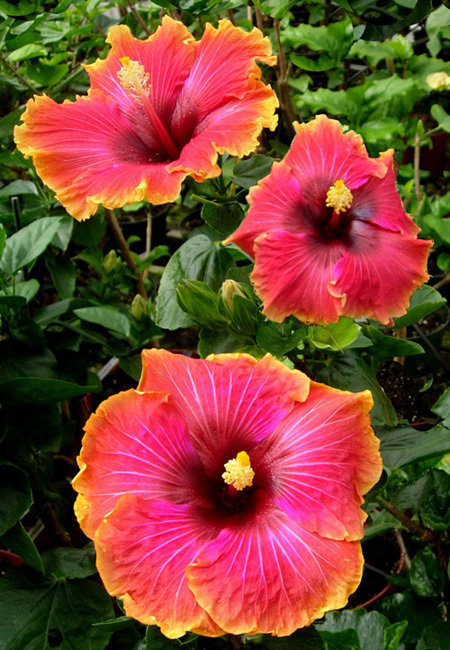Hibiscus-rosa-sinesis: (74, 350, 384, 636), (12, 16, 276, 215), (227, 119, 432, 322)
